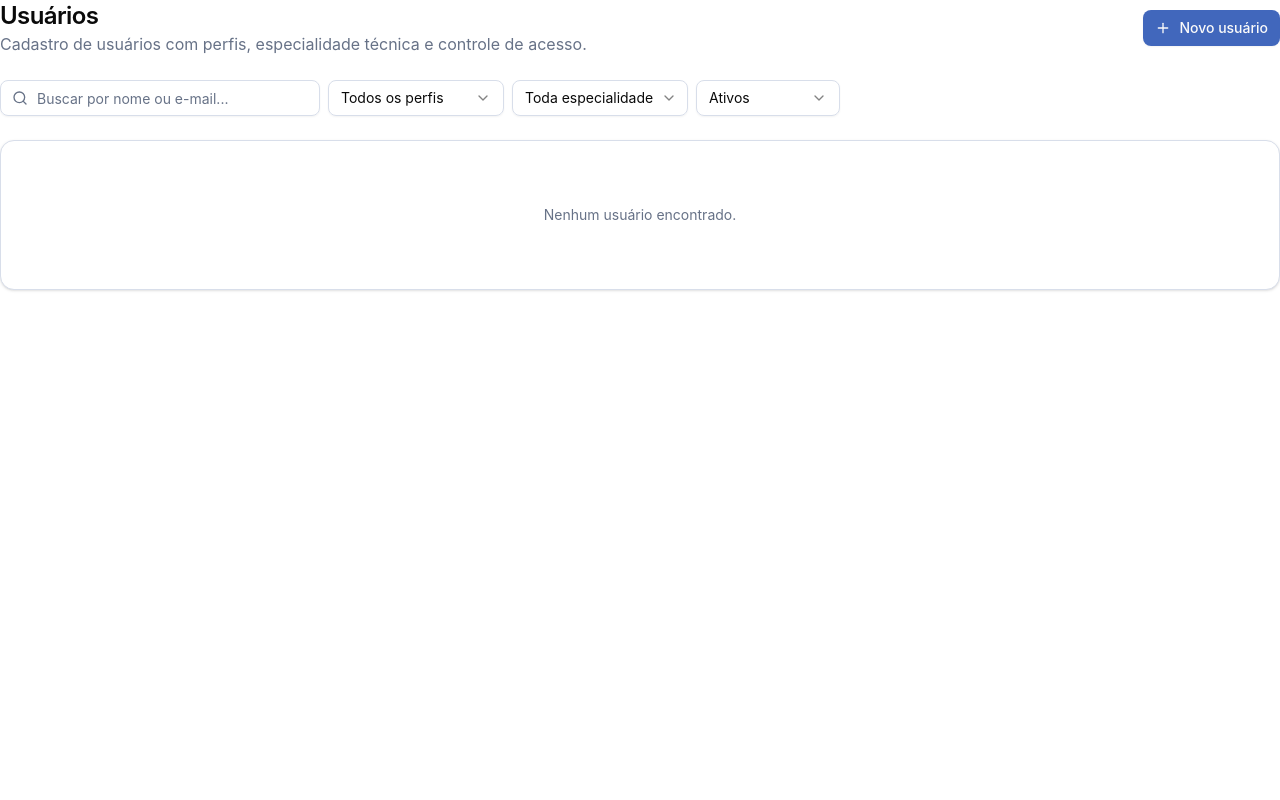
Test: UsersPage › opens the create dialog from 'Novo usuário'
Click the button "Novo usuário" at x=1212, y=28, box [1143,10,1279,46]
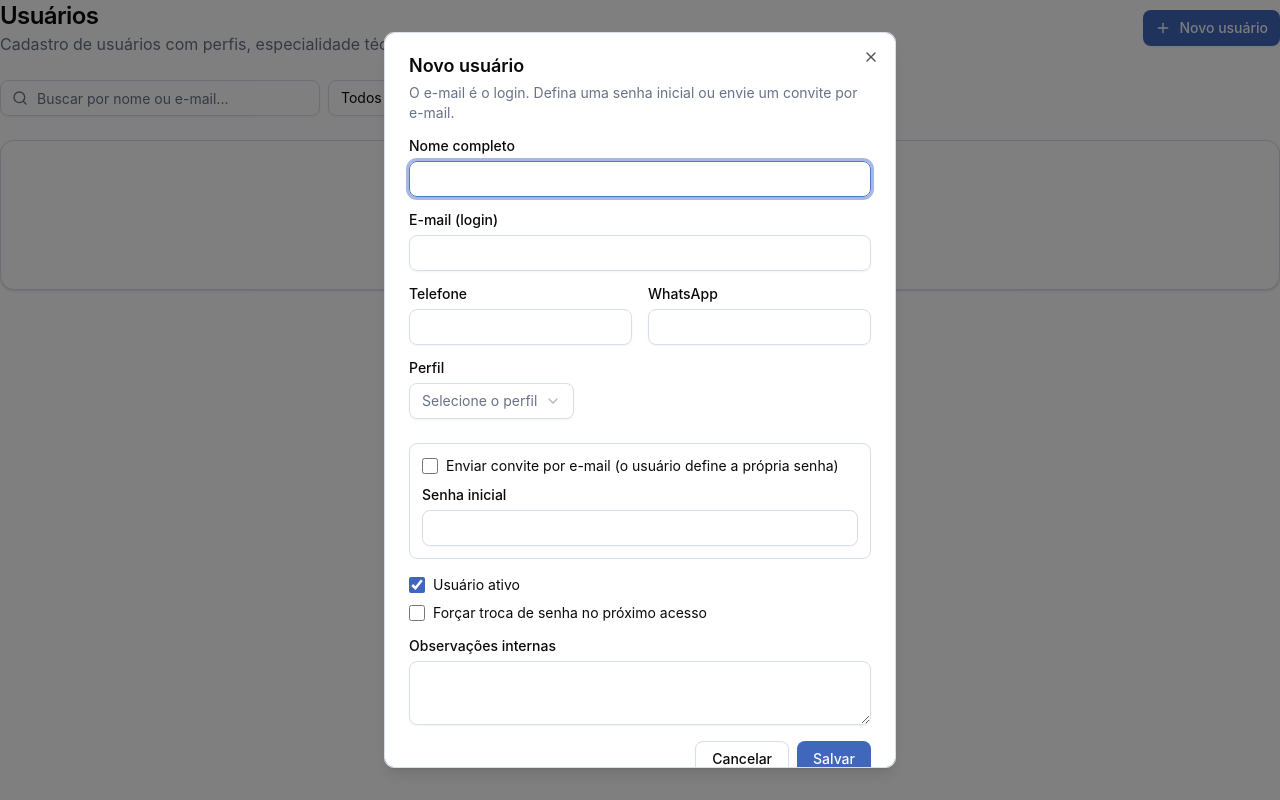
Now the dialog shows "Novo usuário", box [409,55,524,76]
